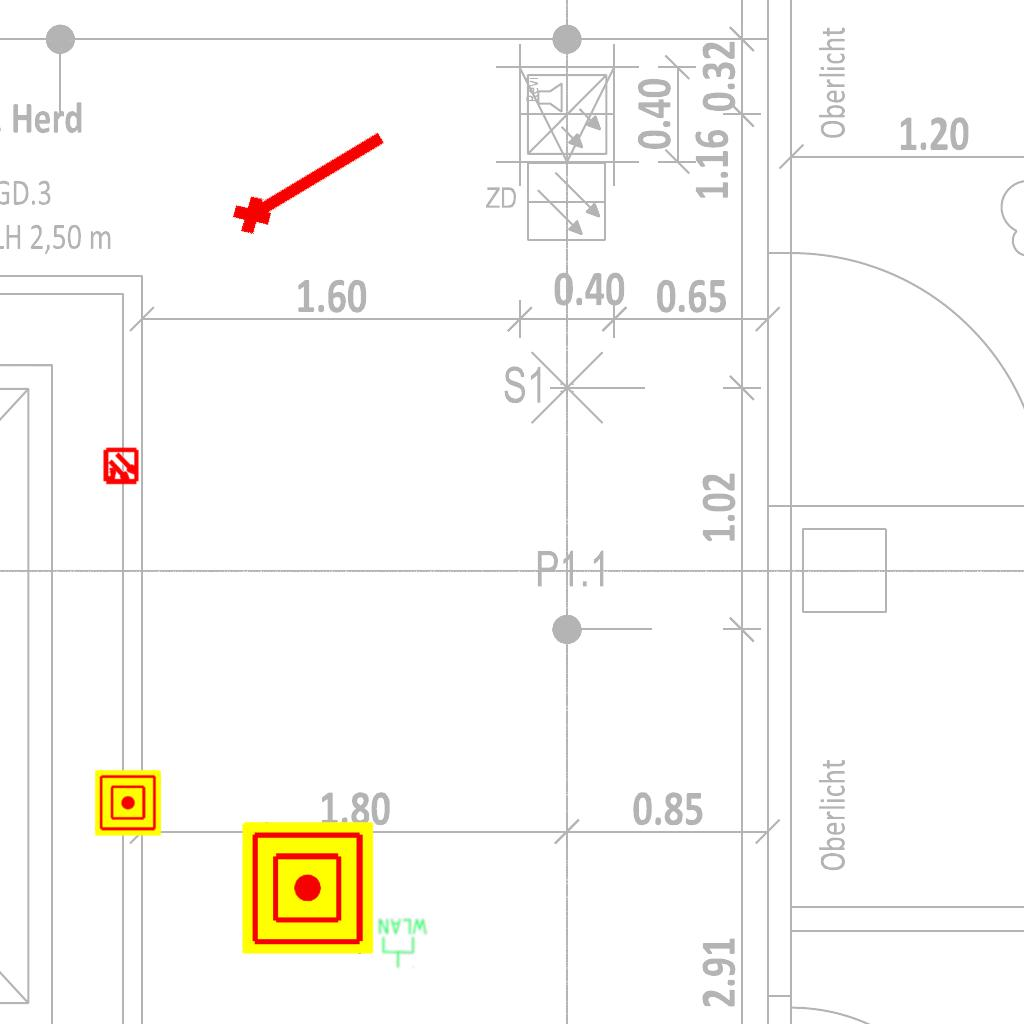ASR_Ansaugoeffnung: (221, 112, 397, 244)
NAM-Nichtautomatischer_Melder: (242, 822, 374, 954), (95, 770, 161, 836)
OT_Multisensormelder_(Kombination_RMO_WMD): (93, 439, 149, 495)
WLAN: (377, 917, 429, 969)
